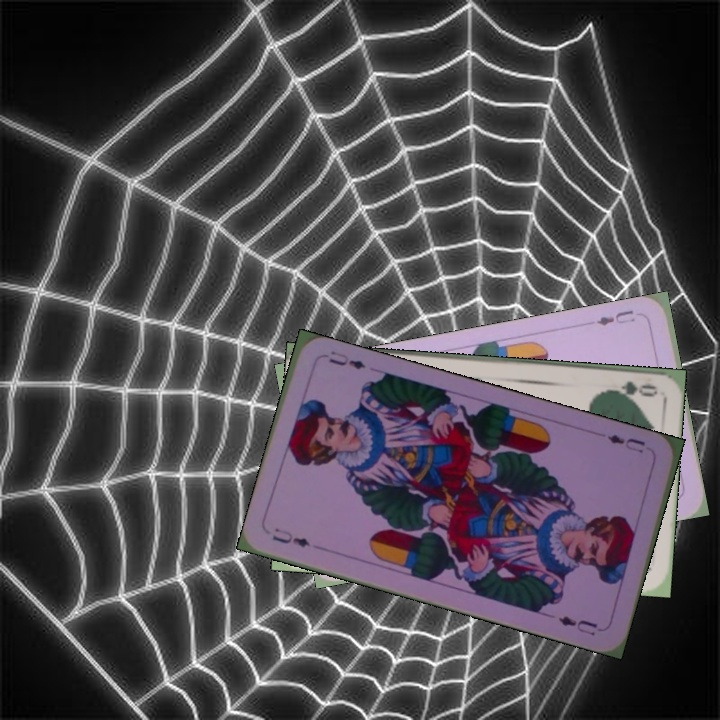EU: (603, 430, 648, 456), (268, 524, 313, 550), (593, 306, 637, 328)
GO: (599, 377, 659, 400)
